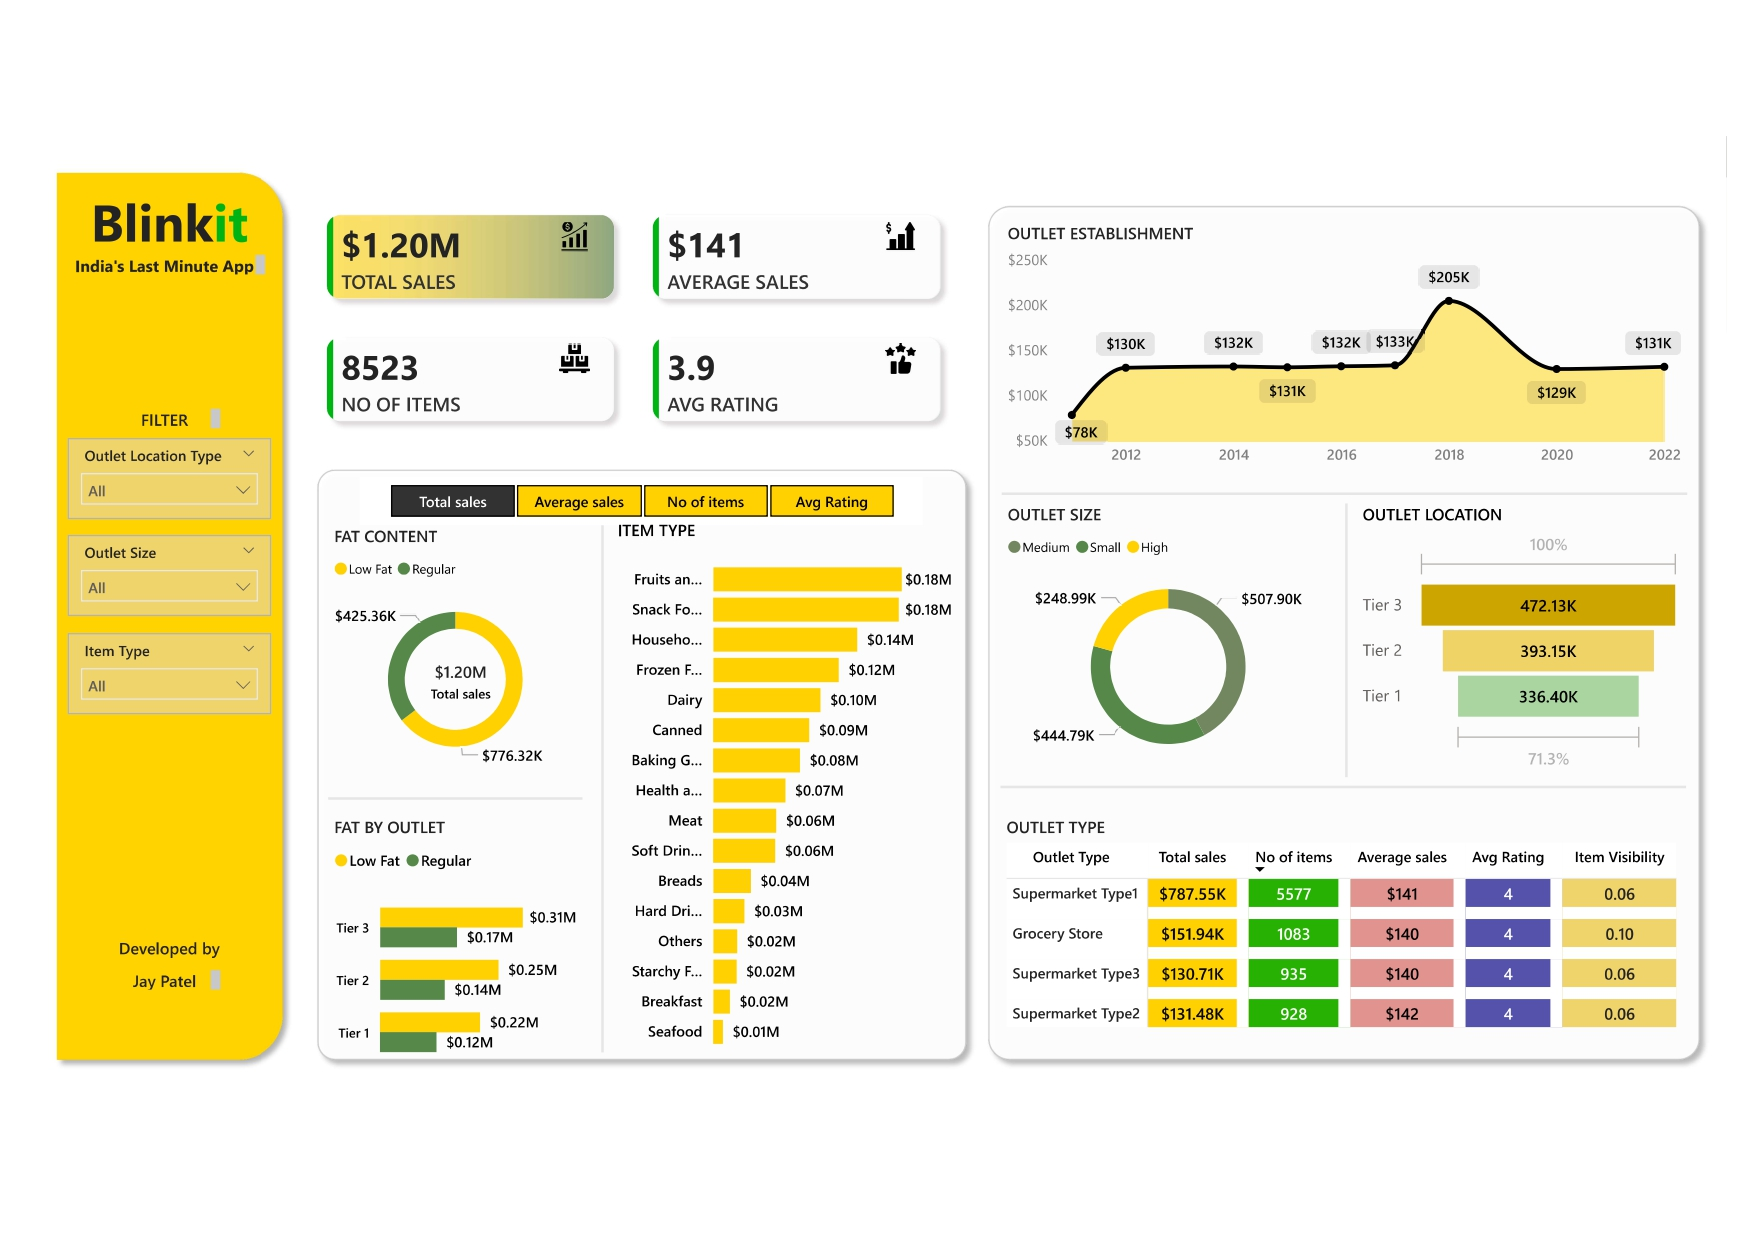

The page's visual inventory and layout, read from the dashboard file:
{"tool":"powerbi","page":{"name":"Page 1","canvas":[1400,800],"ordinal":0},"visuals":[{"type":"shape","box":[12.8,21.3,205,750],"z":0},{"type":"textbox","box":[30.9,36.2,168.1,70.2],"z":1000},{"type":"textbox","box":[30.9,92.6,168.1,26.6],"z":2000},{"type":"cardVisual","fields":{"Data":["BlinkIT Grocery Data.Total sales","BlinkIT Grocery Data.Average sales","BlinkIT Grocery Data.No of items","BlinkIT Grocery Data.Avg Rating"]},"box":[216,36.2,566,229.8],"z":3000},{"type":"shape","box":[227.7,266,554.3,505.3],"z":4000},{"type":"donutChart","title":"FAT CONTENT","fields":{"Y":["BlinkIT Grocery Data.Total sales"],"Category":["BlinkIT Grocery Data.Item Fat Content"]},"box":[245.7,321.3,210.6,209.6],"z":5000},{"type":"slicer","fields":{"Values":["Metrics.Metrics"]},"box":[272.3,280.9,464.9,40.4],"z":6000},{"type":"cardVisual","fields":{"Data":["BlinkIT Grocery Data.Total sales"]},"box":[290.4,408.5,131.9,83],"z":6001},{"type":"clusteredBarChart","title":"FAT BY OUTLET","fields":{"Y":["BlinkIT Grocery Data.Total sales"],"Category":["BlinkIT Grocery Data.Outlet Location Type"],"Series":["BlinkIT Grocery Data.Item Fat Content"]},"box":[245.7,560.6,210.6,219.1],"z":6002},{"type":"shape","box":[245.7,539.4,210.6,14.9],"z":6003},{"type":"shape","box":[464.9,321.3,14.9,435.1],"z":6004},{"type":"barChart","title":"ITEM TYPE","fields":{"Category":["BlinkIT Grocery Data.Item Type"],"Y":["BlinkIT Grocery Data.Total sales"]},"box":[479.8,316,286.2,447.9],"z":6005},{"type":"shape","box":[781.9,48.9,605.3,722.3],"z":6006},{"type":"lineChart","title":"OUTLET ESTABLISHMENT","fields":{"Y":["BlinkIT Grocery Data.Total sales"],"Category":["BlinkIT Grocery Data.Outlet Establishment Year"]},"box":[802.1,71.3,566,209.6],"z":6007},{"type":"shape","box":[802.1,287.2,566,16],"z":6008},{"type":"donutChart","title":"OUTLET SIZE","fields":{"Y":["BlinkIT Grocery Data.Total sales"],"Category":["BlinkIT Grocery Data.Outlet Size"]},"box":[802.1,303.2,275,225],"z":6009},{"type":"shape","box":[1077.7,303.2,17,225.5],"z":6010},{"type":"funnel","title":"OUTLET LOCATION","fields":{"Y":["Sum(BlinkIT Grocery Data.Sales)"],"Category":["BlinkIT Grocery Data.Outlet Location Type"]},"box":[1094.7,303.2,273.4,225.5],"z":6011},{"type":"shape","box":[801,529.1,566.5,15.8],"z":6012},{"type":"pivotTable","title":"OUTLET TYPE","fields":{"Rows":["BlinkIT Grocery Data.Outlet Type"],"Values":["BlinkIT Grocery Data.Total sales","BlinkIT Grocery Data.No of items","BlinkIT Grocery Data.Average sales","BlinkIT Grocery Data.Avg Rating","Avg(BlinkIT Grocery Data.Item Visibility)"]},"box":[801,560.6,567.5,187.2],"z":6013},{"type":"slicer","fields":{"Values":["BlinkIT Grocery Data.Outlet Location Type"]},"box":[30.5,249.3,168.5,67],"z":6014},{"type":"slicer","fields":{"Values":["BlinkIT Grocery Data.Outlet Size"]},"box":[30.5,329.1,168.5,67],"z":6015},{"type":"slicer","fields":{"Values":["BlinkIT Grocery Data.Item Type"]},"box":[30.5,409.9,168.5,67],"z":6016},{"type":"textbox","box":[68,219.7,93.6,26.6],"z":6017},{"type":"textbox","box":[68,656.2,93.6,26.6],"z":6018},{"type":"textbox","box":[68,682.8,93.6,26.6],"z":6019}]}

Visuals, with their boxes on the page's 1400x800 design canvas (x1, y1, x2, y2). These are canvas units, not pixel positions in the 1755x1241 screenshot, which may show the page scaled, cropped or inside an application window:
shape: 13,21,218,771
textbox: 31,36,199,106
textbox: 31,93,199,119
cardVisual - BlinkIT Grocery Data.Total sales x BlinkIT Grocery Data.Average sales: 216,36,782,266
shape: 228,266,782,771
"FAT CONTENT" donutChart: 246,321,456,531
slicer - Metrics.Metrics: 272,281,737,321
cardVisual - BlinkIT Grocery Data.Total sales: 290,408,422,492
"FAT BY OUTLET" clusteredBarChart: 246,561,456,780
shape: 246,539,456,554
shape: 465,321,480,756
"ITEM TYPE" barChart: 480,316,766,764
shape: 782,49,1387,771
"OUTLET ESTABLISHMENT" lineChart: 802,71,1368,281
shape: 802,287,1368,303
"OUTLET SIZE" donutChart: 802,303,1077,528
shape: 1078,303,1095,529
"OUTLET LOCATION" funnel: 1095,303,1368,529
shape: 801,529,1368,545
"OUTLET TYPE" pivotTable: 801,561,1368,748
slicer - BlinkIT Grocery Data.Outlet Location Type: 30,249,199,316
slicer - BlinkIT Grocery Data.Outlet Size: 30,329,199,396
slicer - BlinkIT Grocery Data.Item Type: 30,410,199,477
textbox: 68,220,162,246
textbox: 68,656,162,683
textbox: 68,683,162,709
